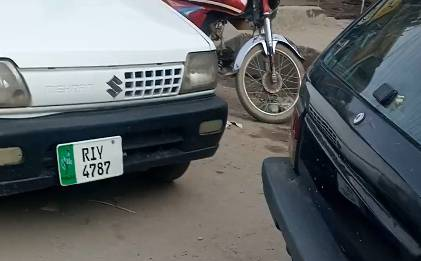number_plate: (54, 134, 131, 187)
